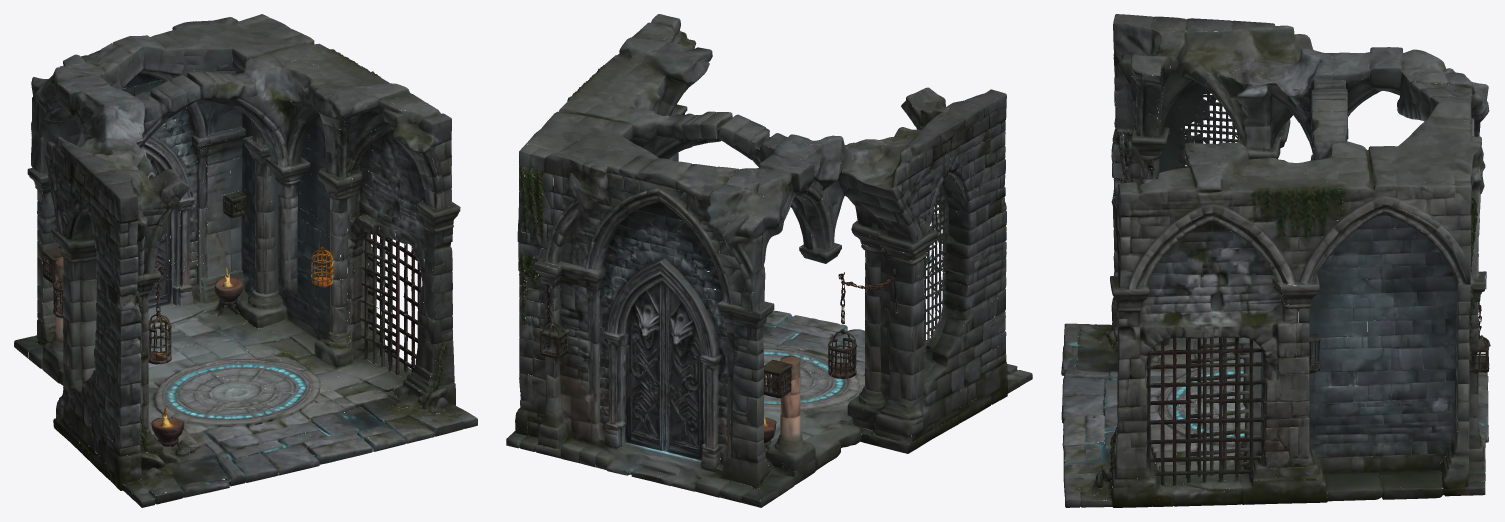
File: fuben_scene_lod.glb
3 renders of one model, left to right at view 1: azimuth 30°, elevation 25°; view 2: azimuth 150°, elevation 25°; view 3: azimuth 270°, elevation 25°, orthographic. The views are drawn at different scales.
Visible parts, largest first — view 1: SC_FUBEN; view 2: SC_FUBEN; view 3: SC_FUBEN.
Part boxes in pixels (x1,y1,x2,y2): SC_FUBEN: [14, 14, 477, 507]; SC_FUBEN: [506, 14, 1032, 507]; SC_FUBEN: [1061, 14, 1490, 507].
Size of the model in its own units: 19.94 by 16.65 by 20.01.
Materials: 1 (1 with a texture image).
